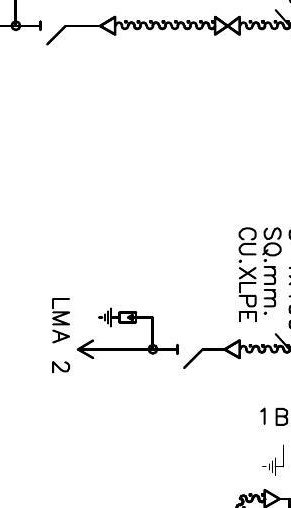22_ds_la_out: (76, 307, 204, 370)
terminator_single: (223, 338, 242, 361), (99, 15, 118, 38)
terminator_splicing_kits: (214, 15, 242, 36)
